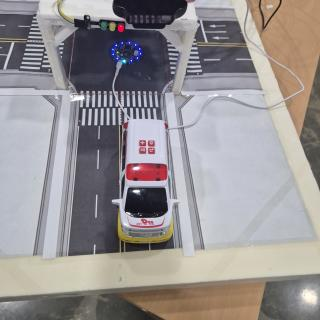Ambulance: (112, 119, 180, 243)
